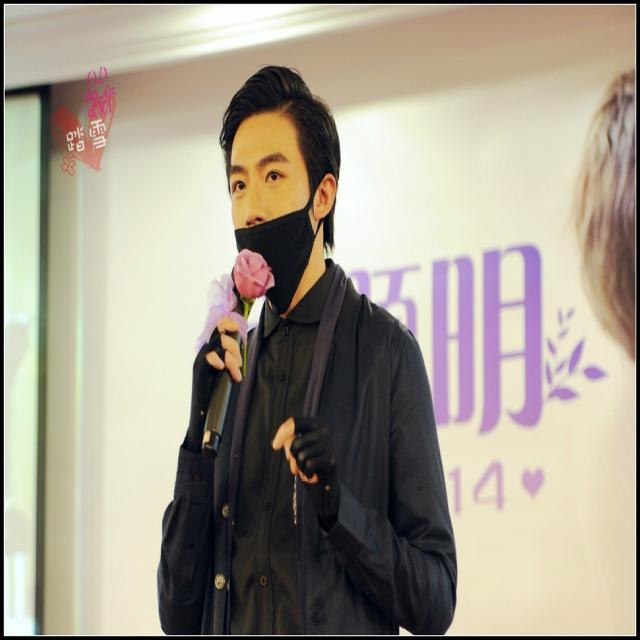mask: (230, 111, 312, 290)
